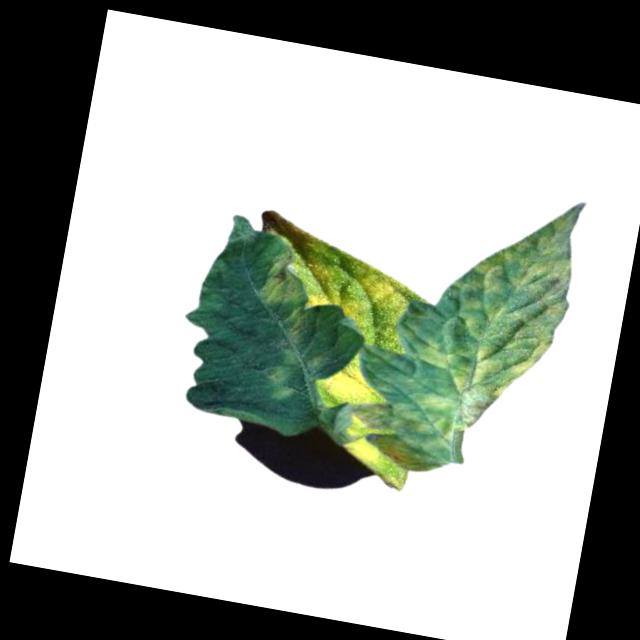Leaf_Mold: (376, 177, 586, 500), (304, 258, 415, 334), (251, 242, 320, 342), (315, 351, 389, 416), (348, 434, 389, 467)
